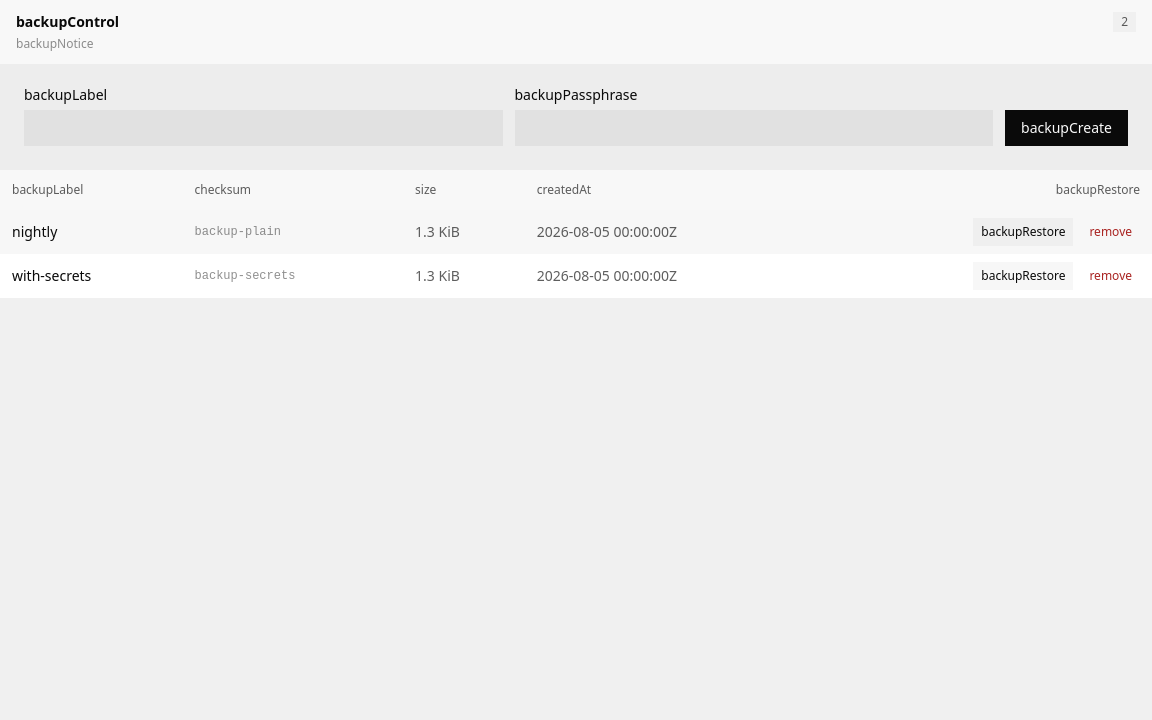
it: BackupWidget 복구 다이얼로그 › 시크릿이 없는 백업이면 암호 입력을 보여주지 않는다
Click the button "backupRestore" in the row of "nightly" at (1023, 232), box x1=973 y1=218 x2=1073 y2=246
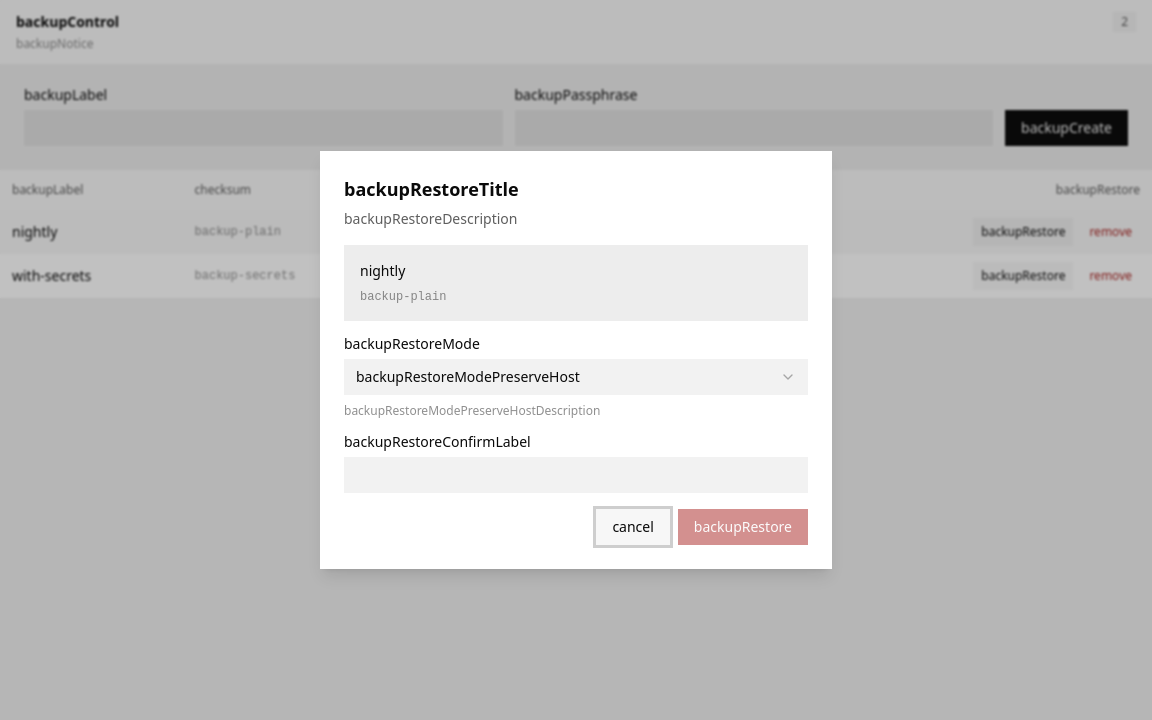
Expected: the heading "backupRestoreTitle" is shown, x1=344 y1=175 x2=519 y2=203
